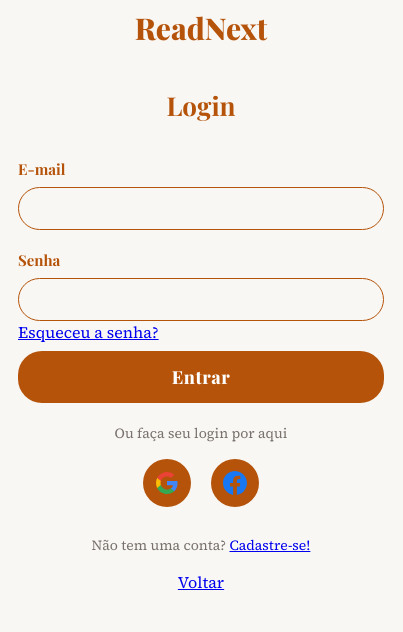
Página de Login — Validações › exibe erro quando ambos os campos estão vazios
Click the button "Entrar" at (201, 377), box top-left (18, 351), bottom-right (384, 403)
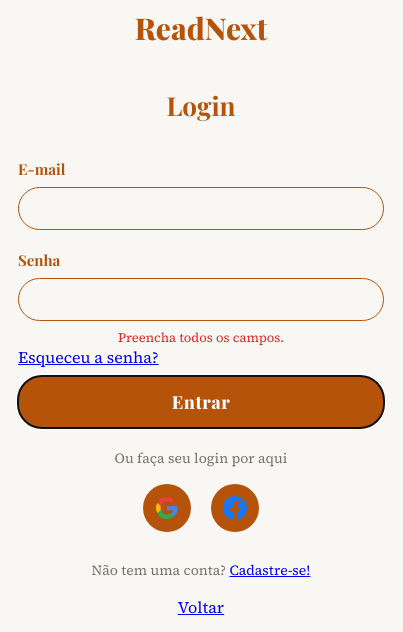
expect the text "Preencha todos os campos." is shown: met, box top-left (118, 329), bottom-right (284, 346)
